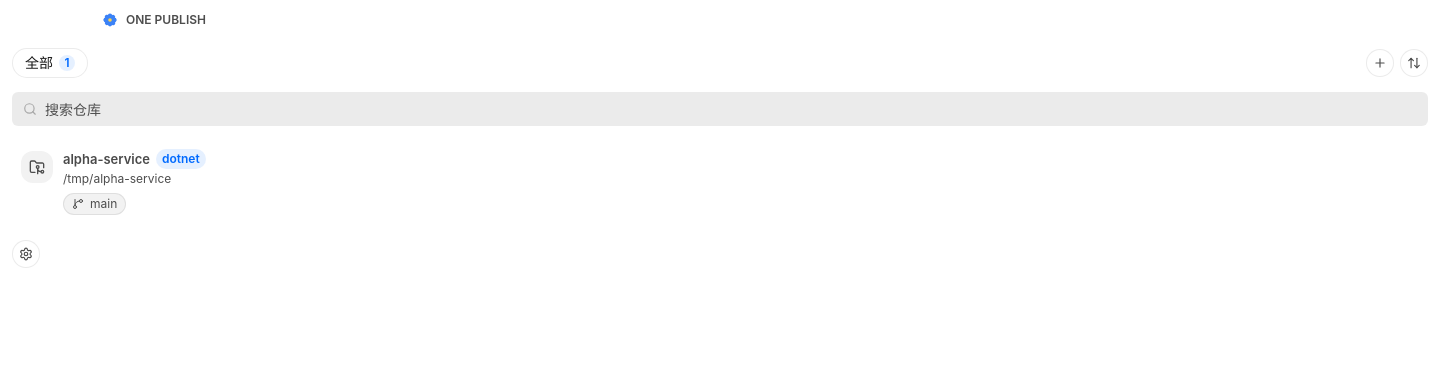
Scenario: RepositoryList · 添加仓库入口与反馈 › 搜索无结果时不再提示添加仓库，而是提示没有匹配项
Type "zzz" into the field with test id "repo-search-input".
click(720, 109); type("zzz")  # box [13, 93, 1427, 125]
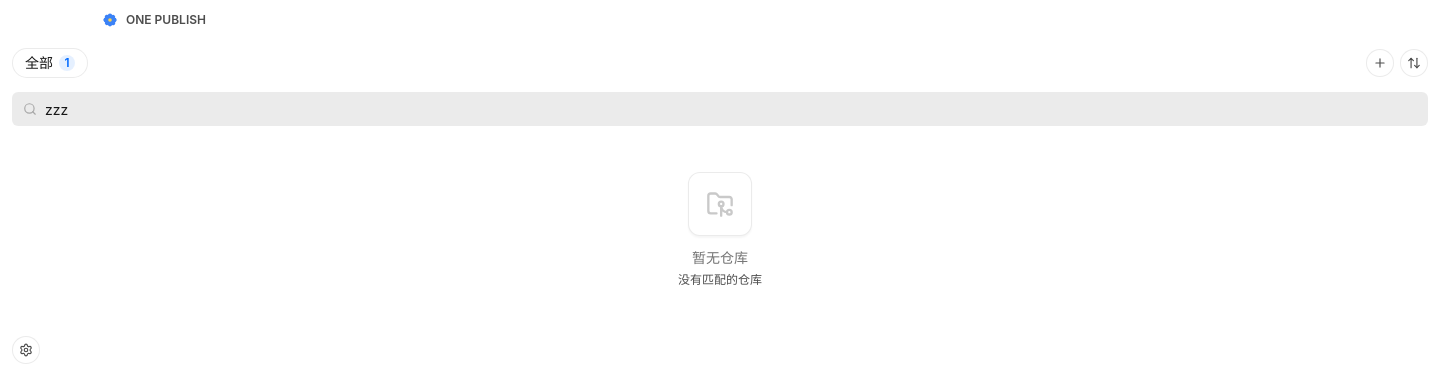
Expected: the text "没有匹配的仓库" is shown, [678, 272, 762, 288]
